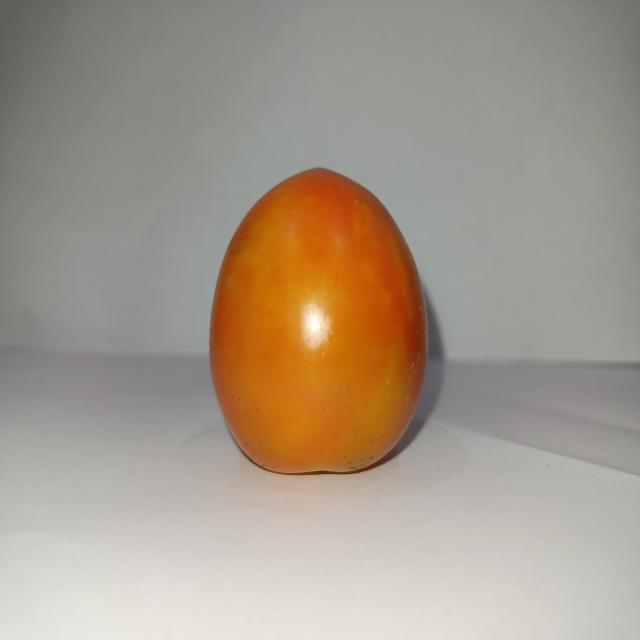Red: (207, 165, 429, 475)
